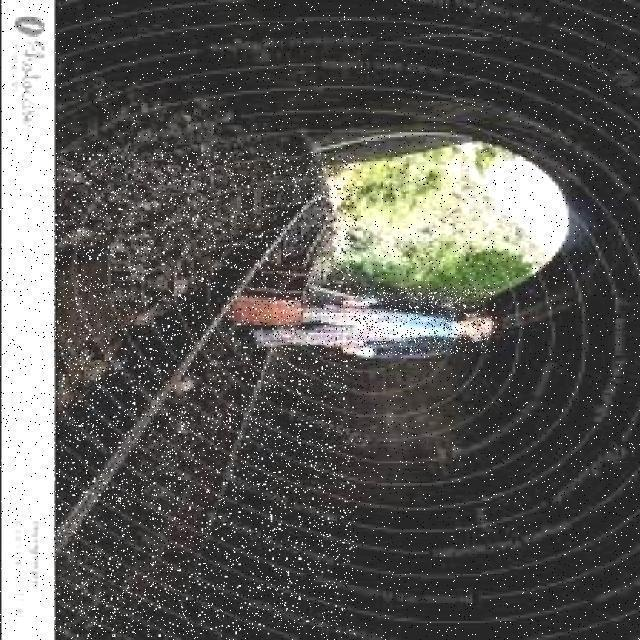rail: (53, 154, 356, 637)
